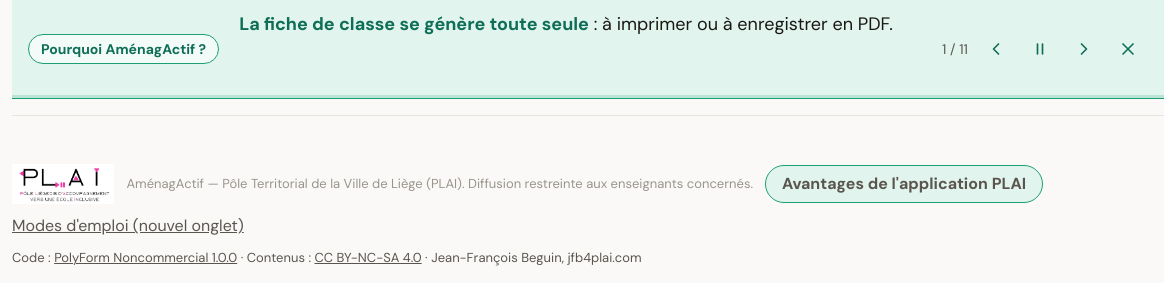
Test: bandeau d'avantages › lien « Avantages de l'application PLAI » du pied de page : fait revenir le bandeau fermé
Click the button named "Fermer le bandeau" at point(1128, 49), box [1108,29,1148,69]
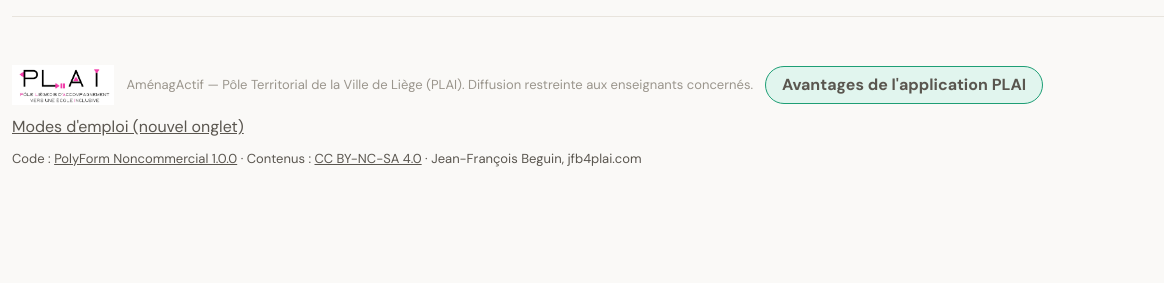
Result: the text "Pourquoi AménagActif" is gone
Click the link "Avantages de l'application PLAI" at point(904, 85), box [765,66,1043,104]
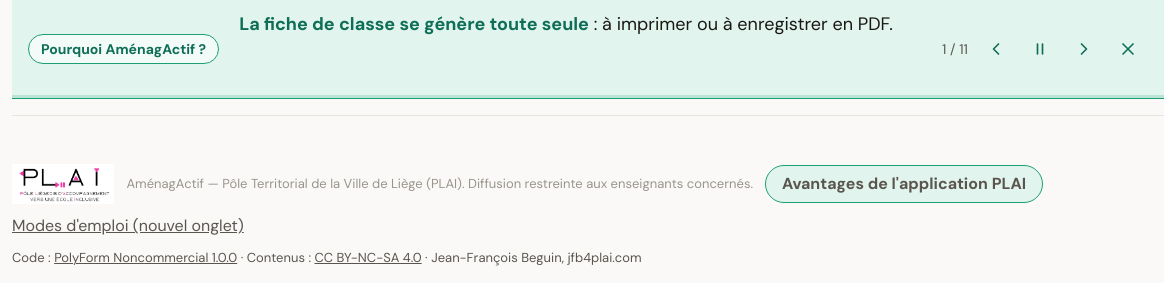
Result: the element "Pourquoi AménagActif" is shown at [12,0,1163,99]
